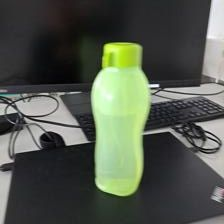bottle: (87, 39, 152, 198)
